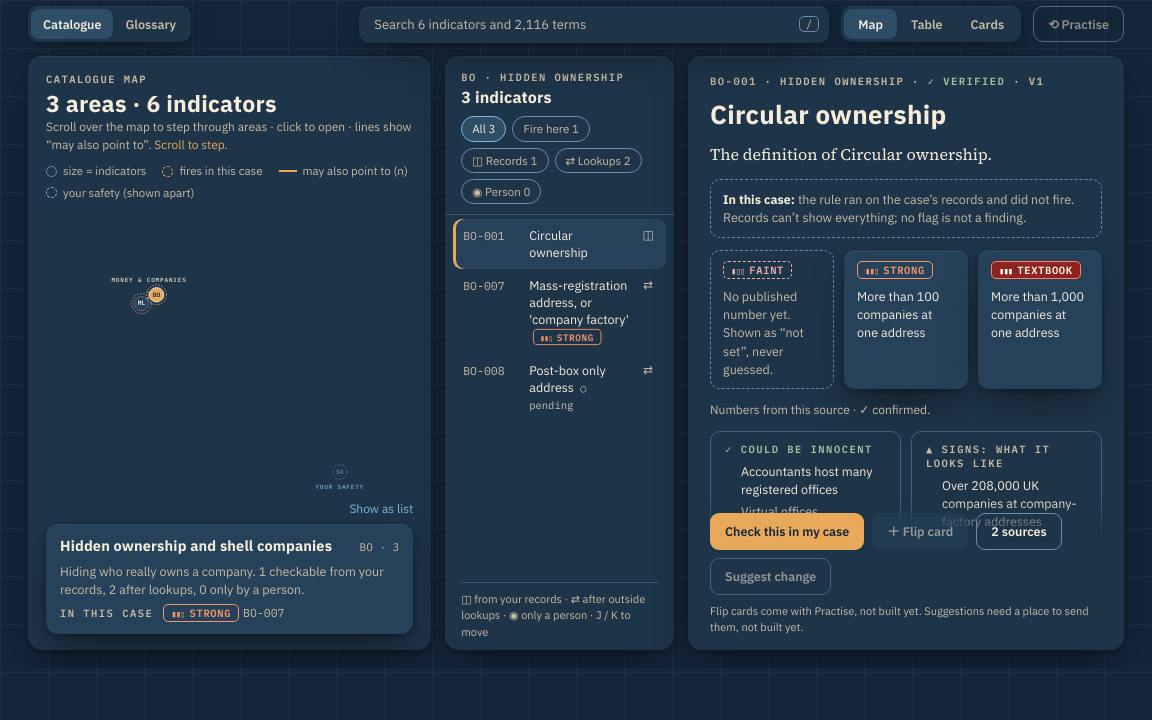
Test: Learn › Red Flags catalogue › runs the rule again for an indicator a rule computes
Expected: the text "the rule ran on the case’s records and did not fire" is shown, [723, 191, 1074, 226]
Click the button "Check this in my case": (787, 532) [710, 514, 864, 550]
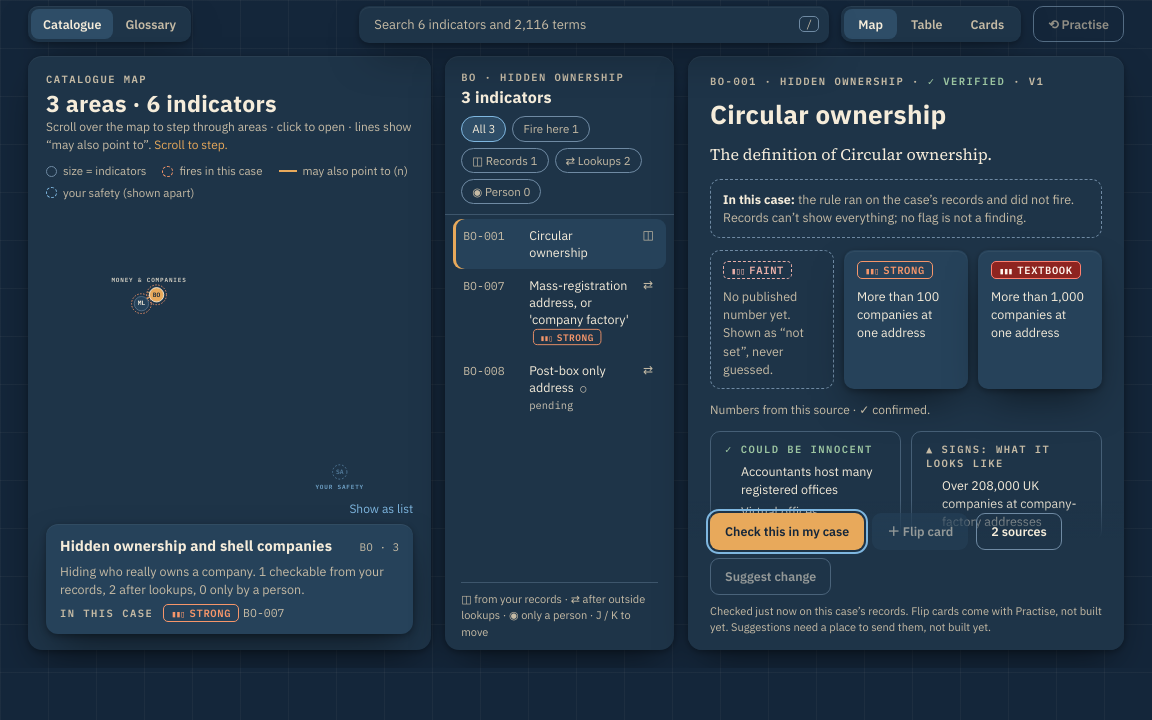
Expected: the text "Checked just now on this case’s records." is shown, [710, 604, 911, 618]
